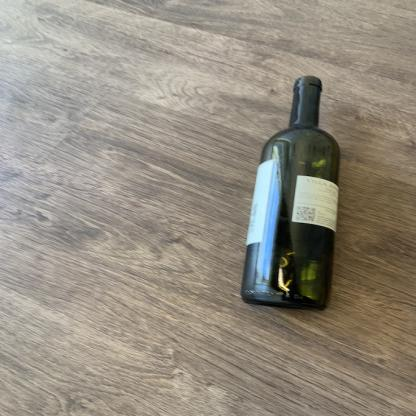trash: (233, 76, 343, 314)
